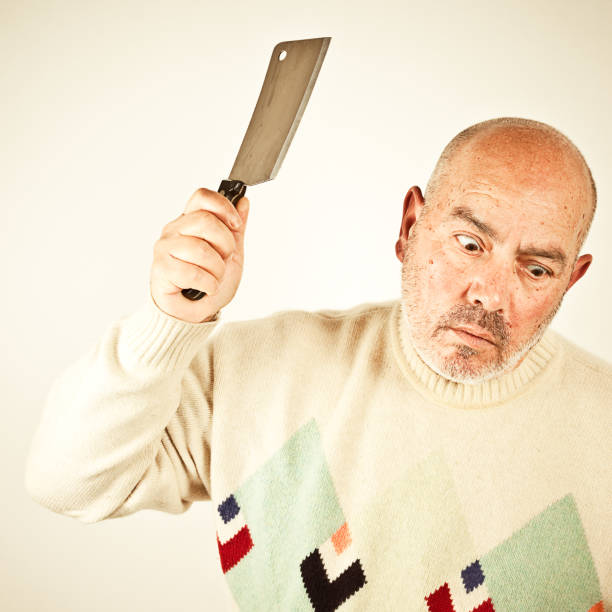knife: (181, 36, 333, 302)
